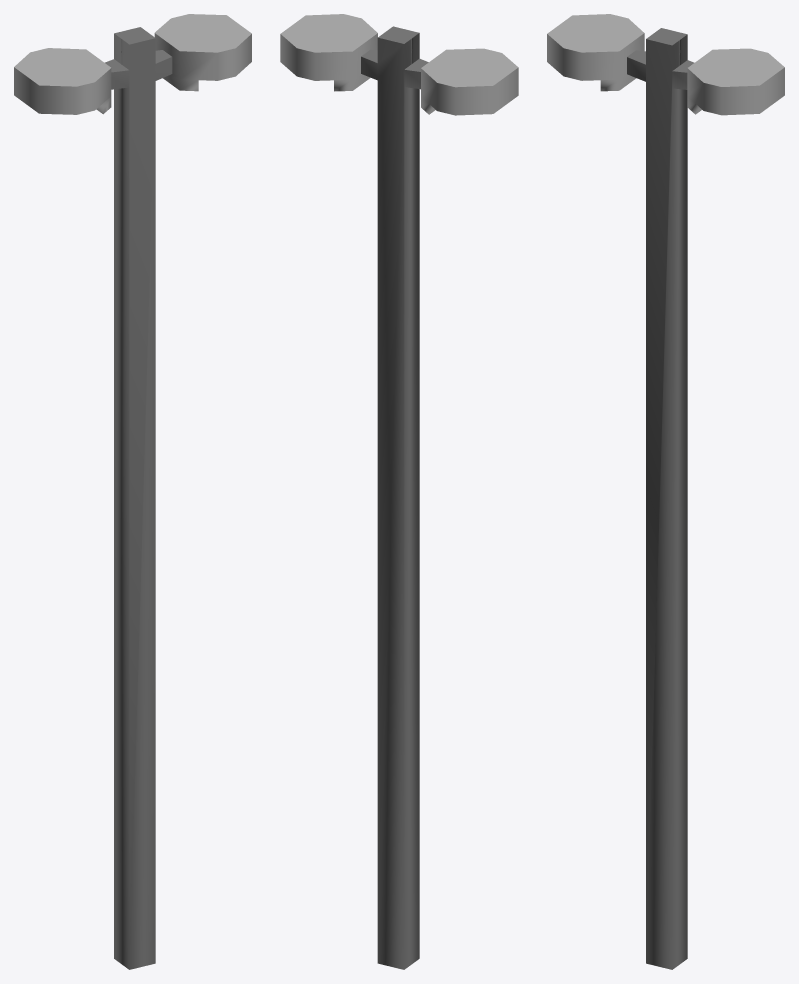
The model's file is streetlightV4.fbx.
3 renders of one model, left to right at view 1: azimuth 30°, elevation 25°; view 2: azimuth 150°, elevation 25°; view 3: azimuth 330°, elevation 25°, orthographic.
Visible parts, largest first — view 1: pCube18; view 2: pCube18; view 3: pCube18.
Part boxes in pixels (x1,y1,x2,y2): pCube18: (14, 14, 251, 969); pCube18: (280, 14, 518, 969); pCube18: (547, 14, 784, 969).
Bounding box in the file's own units: 0.9627 × 4 × 0.3695.
